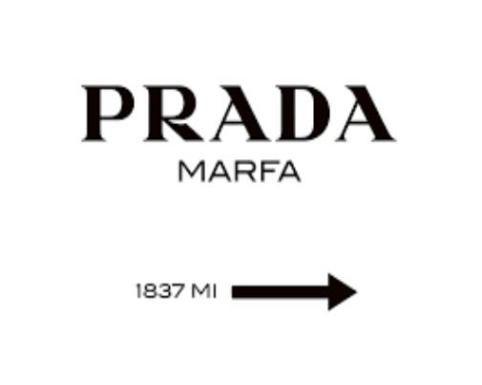PRADA: (65, 64, 397, 146)
